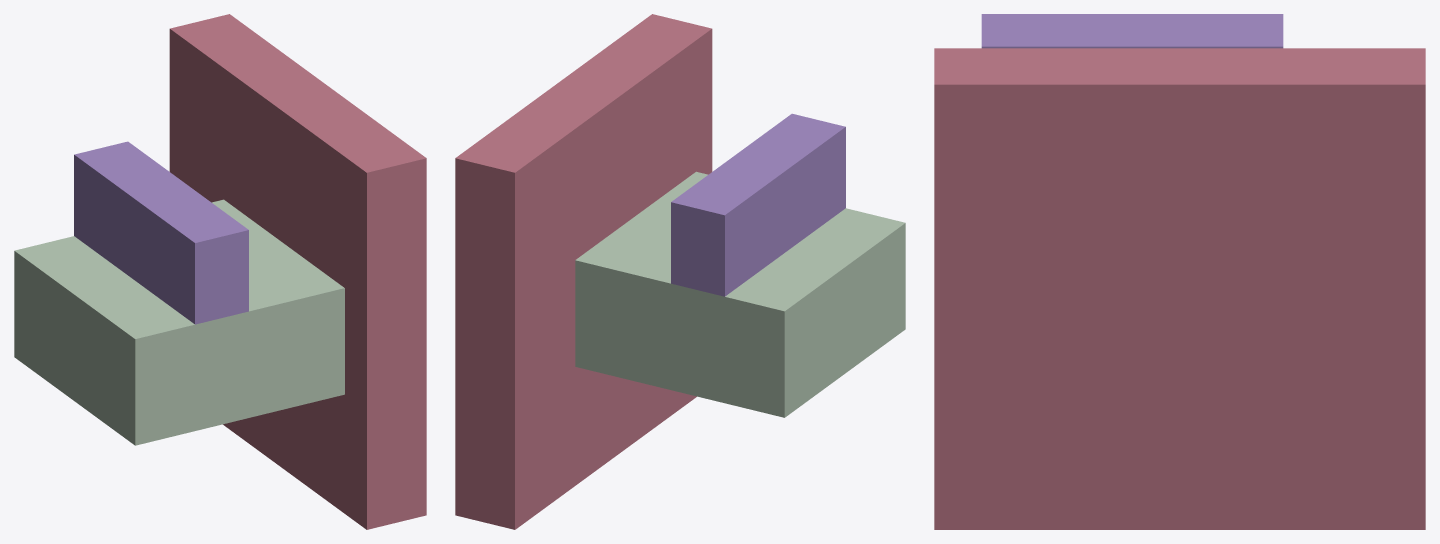
The model's file is 199517_pred.glb.
The picture shows the model from 3 angles, left to right: view 1: azimuth 30°, elevation 25°; view 2: azimuth 150°, elevation 25°; view 3: azimuth 270°, elevation 25°; orthographic projection. The views are drawn at different scales.
Parts seen in each view (by area): view 1: world; view 2: world; view 3: world.
Boxes of the visible parts, x1,y1,x2,y2 form: world: [14, 14, 426, 529]; world: [455, 14, 905, 529]; world: [934, 14, 1425, 529].
Size of the model in its own units: 4.55 by 5.7 by 5.7.
